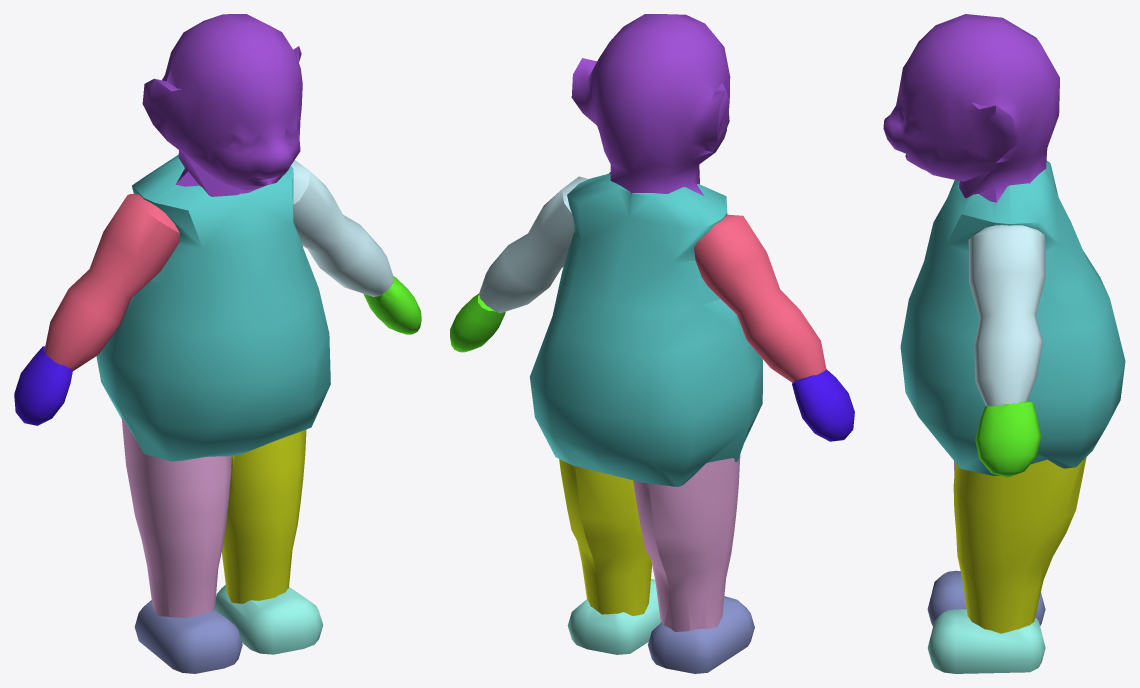
3 views of the same model, side by side, from view 1: azimuth 30°, elevation 25°; view 2: azimuth 150°, elevation 25°; view 3: azimuth 270°, elevation 25° (orthographic).
Visible parts, largest first — view 1: Default Tubby Model_Body_0.006, Default Tubby Model_Head_0, Default Tubby Model_Body_0.004, Default Tubby Model_Body_0.005, Default Tubby Model_Body_0.007, Default Tubby Model_Body_0.003, Default Tubby Model_Body_0.008, Default Tubby Model_Body_0, Default Tubby Model_Body_0.001, Default Tubby Model_Body_0.002; view 2: Default Tubby Model_Body_0.006, Default Tubby Model_Head_0, Default Tubby Model_Body_0.004, Default Tubby Model_Body_0.007, Default Tubby Model_Body_0.005, Default Tubby Model_Body_0.003, Default Tubby Model_Body_0.008, Default Tubby Model_Body_0, Default Tubby Model_Body_0.001, Default Tubby Model_Body_0.002; view 3: Default Tubby Model_Body_0.006, Default Tubby Model_Head_0, Default Tubby Model_Body_0.005, Default Tubby Model_Body_0.003, Default Tubby Model_Body_0, Default Tubby Model_Body_0.002, Default Tubby Model_Body_0.008.
Boxes of the visible parts, left/top/right/bottom form: Default Tubby Model_Body_0.006: left=96, top=154, right=330, bottom=461; Default Tubby Model_Head_0: left=142, top=14, right=302, bottom=196; Default Tubby Model_Body_0.004: left=121, top=416, right=231, bottom=617; Default Tubby Model_Body_0.005: left=221, top=429, right=306, bottom=603; Default Tubby Model_Body_0.007: left=44, top=194, right=179, bottom=370; Default Tubby Model_Body_0.003: left=291, top=160, right=393, bottom=296; Default Tubby Model_Body_0.008: left=134, top=600, right=242, bottom=673; Default Tubby Model_Body_0: left=215, top=585, right=323, bottom=654; Default Tubby Model_Body_0.001: left=14, top=346, right=72, bottom=425; Default Tubby Model_Body_0.002: left=363, top=276, right=421, bottom=334; Default Tubby Model_Body_0.006: left=530, top=173, right=762, bottom=486; Default Tubby Model_Head_0: left=571, top=14, right=730, bottom=195; Default Tubby Model_Body_0.004: left=633, top=455, right=740, bottom=631; Default Tubby Model_Body_0.007: left=694, top=214, right=826, bottom=382; Default Tubby Model_Body_0.005: left=559, top=459, right=651, bottom=615; Default Tubby Model_Body_0.003: left=479, top=176, right=588, bottom=313; Default Tubby Model_Body_0.008: left=648, top=596, right=754, bottom=673; Default Tubby Model_Body_0: left=567, top=578, right=660, bottom=654; Default Tubby Model_Body_0.001: left=792, top=369, right=854, bottom=441; Default Tubby Model_Body_0.002: left=450, top=293, right=505, bottom=352; Default Tubby Model_Body_0.006: left=900, top=160, right=1125, bottom=475; Default Tubby Model_Head_0: left=883, top=14, right=1059, bottom=202; Default Tubby Model_Body_0.005: left=953, top=457, right=1086, bottom=633; Default Tubby Model_Body_0.003: left=968, top=225, right=1045, bottom=406; Default Tubby Model_Body_0: left=927, top=609, right=1045, bottom=673; Default Tubby Model_Body_0.002: left=975, top=401, right=1041, bottom=477; Default Tubby Model_Body_0.008: left=927, top=570, right=1045, bottom=625.
Size of the model in its own units: 0.6703 by 1 by 0.3542.
